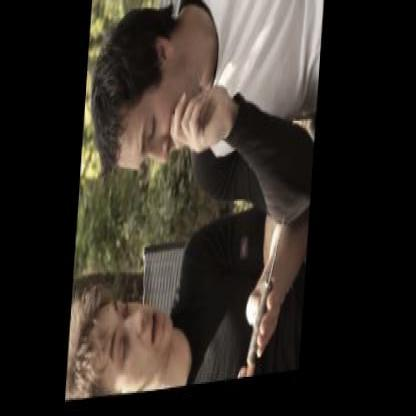knife: (247, 214, 294, 376)
